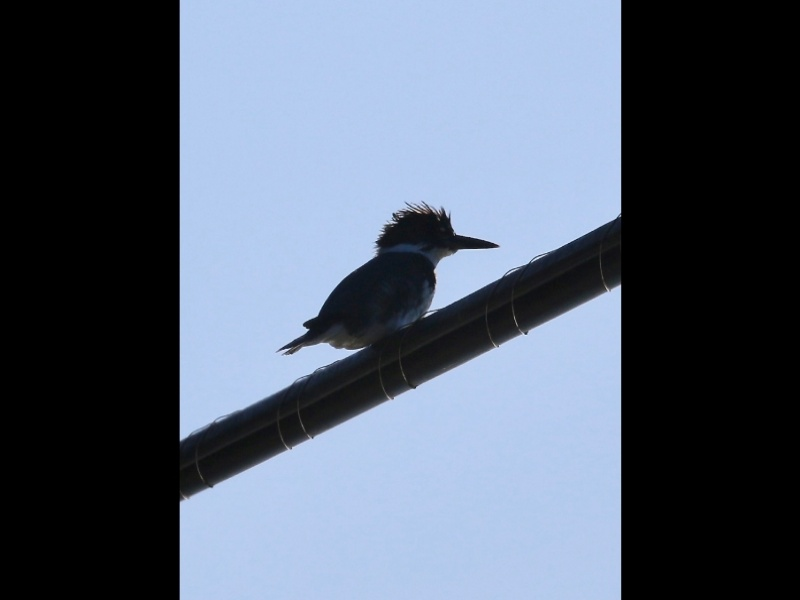kingfisher: (274, 200, 502, 362)
